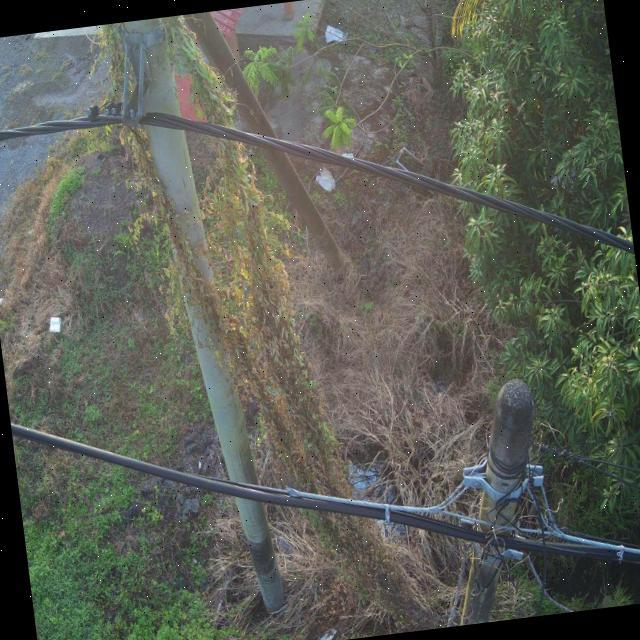critical vegetation: (88, 0, 425, 635)
